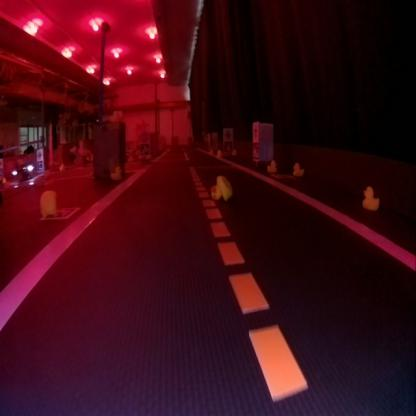Duckie: (209, 176, 230, 200), (40, 190, 56, 216), (362, 185, 378, 210), (109, 166, 122, 178), (292, 162, 303, 175), (266, 158, 275, 170), (230, 148, 236, 155)
Intersection sign: (252, 123, 258, 140)
QR code: (222, 140, 232, 152), (140, 143, 150, 154), (252, 142, 258, 160), (36, 160, 42, 170)
